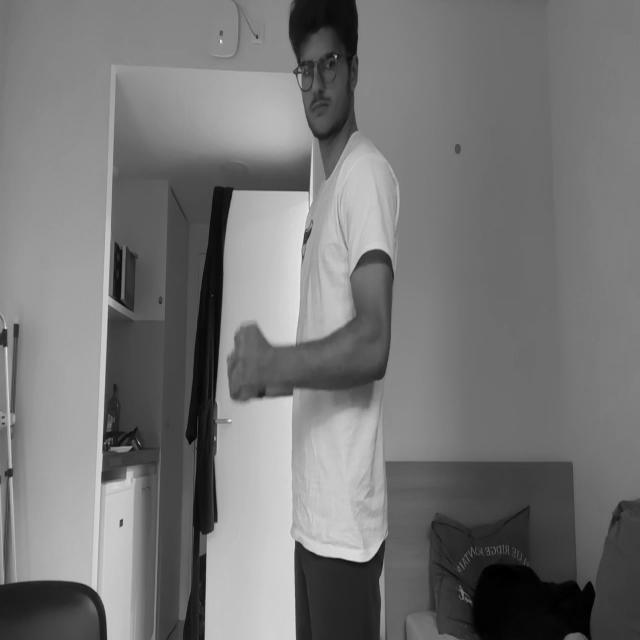elbow: (358, 312, 389, 379)
hand: (228, 318, 266, 402)
shoulder: (338, 154, 398, 234)
